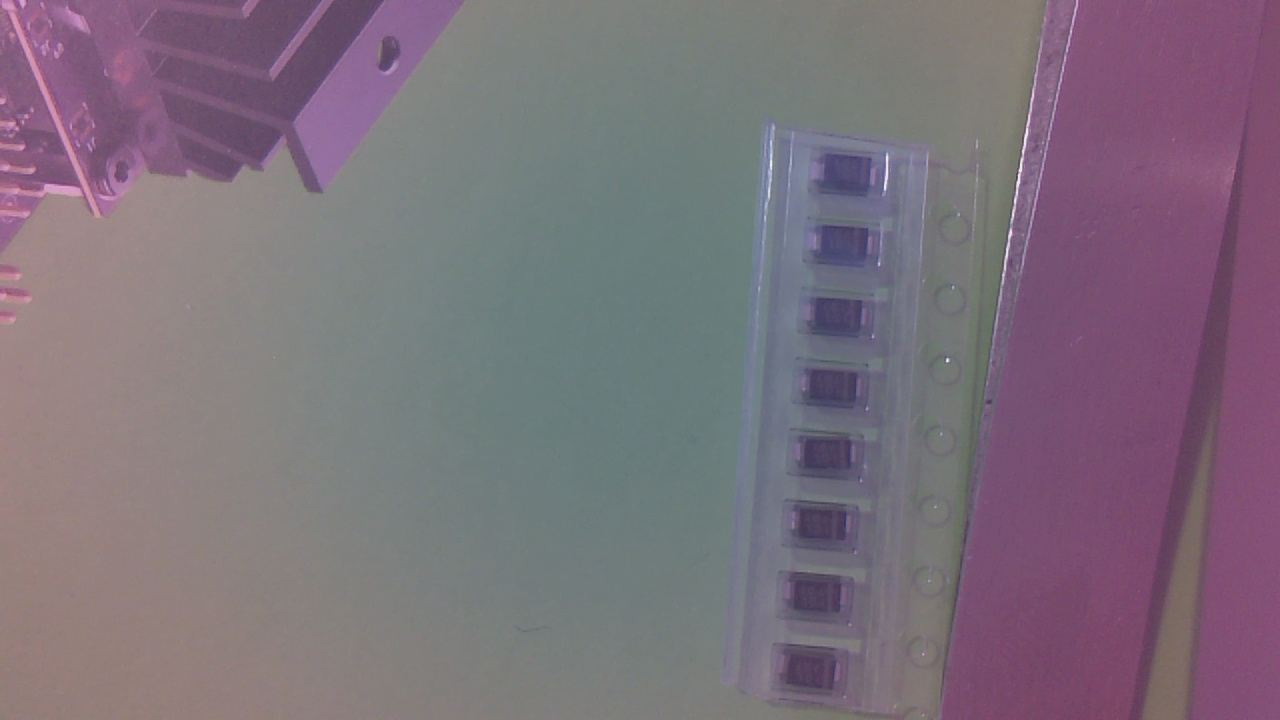Diode: (807, 300, 878, 341), (813, 230, 882, 272), (803, 367, 874, 407), (817, 157, 886, 198), (779, 654, 846, 696), (788, 578, 857, 618), (799, 440, 868, 479), (793, 508, 862, 545)
